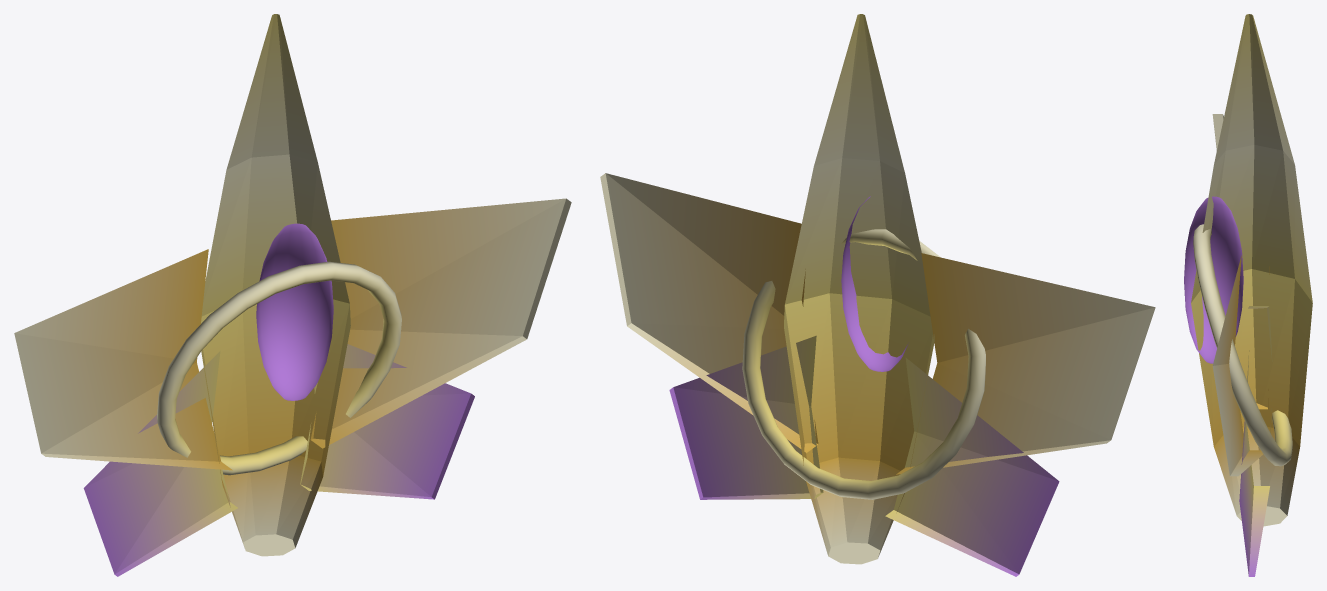
The model's file is ship_gold_phoenix.glb.
3 views of the same model, side by side, from view 1: azimuth 30°, elevation 25°; view 2: azimuth 150°, elevation 25°; view 3: azimuth 270°, elevation 25° (orthographic). The views are drawn at different scales.
Visible parts, largest first — view 1: ShipRoot; view 2: ShipRoot; view 3: ShipRoot.
Part boxes in pixels (<box>): ShipRoot: <box>14,14,571,576</box>; ShipRoot: <box>600,14,1155,576</box>; ShipRoot: <box>1184,14,1312,576</box>.
Size of the model in its own units: 4.7 by 4.35 by 1.01.
